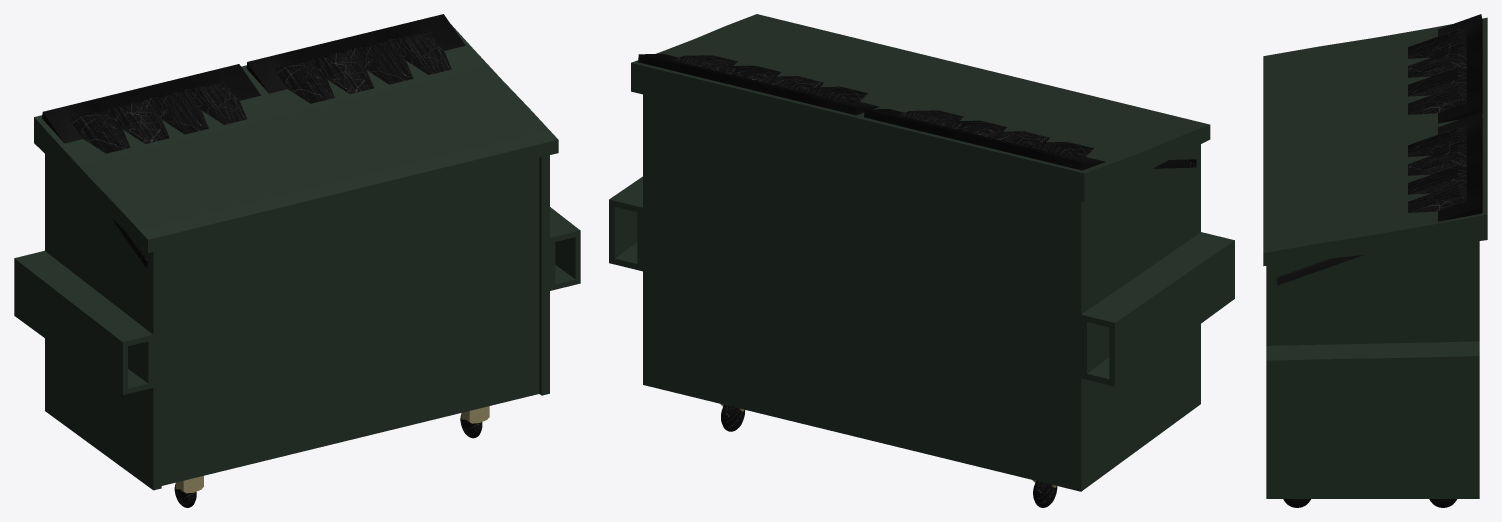
File: rubbish.fbx
The picture shows the model from 3 angles, left to right: view 1: azimuth 30°, elevation 25°; view 2: azimuth 150°, elevation 25°; view 3: azimuth 270°, elevation 25°; orthographic projection. The views are drawn at different scales.
Parts seen in each view (by area): view 1: rubbish, cover, cover1; view 2: rubbish, cover, cover1; view 3: rubbish, cover1, cover.
Boxes of the visible parts, box(x1,y1,x2,y2) form: rubbish: box(14, 24, 580, 490); cover: box(42, 64, 260, 267); cover1: box(246, 14, 465, 103); rubbish: box(609, 14, 1234, 491); cover: box(864, 109, 1196, 170); cover1: box(638, 53, 879, 115); rubbish: box(1263, 17, 1487, 498); cover1: box(1276, 112, 1482, 285); cover: box(1408, 14, 1482, 123).
Size of the model in its own units: 232 by 164 by 100.
